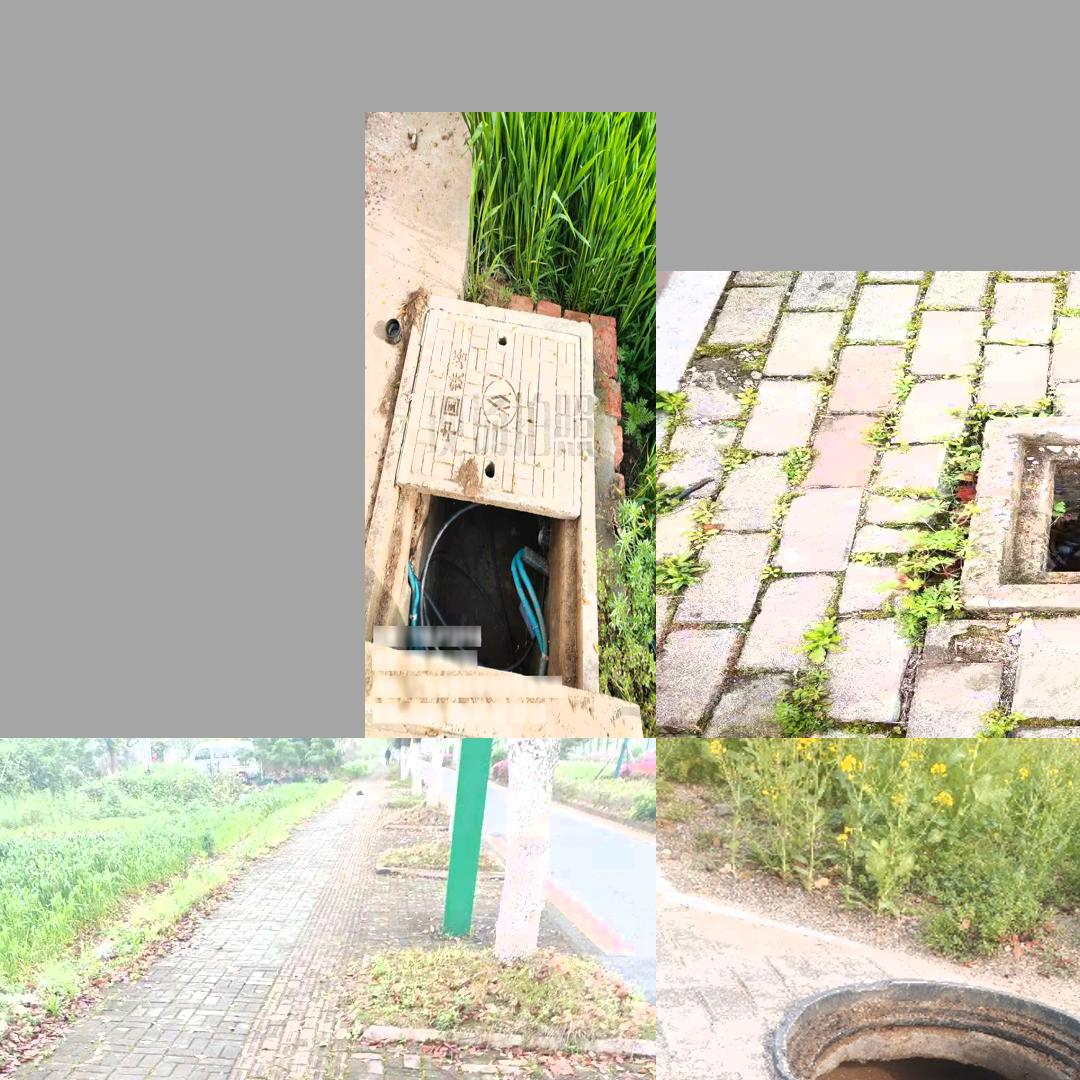lose: (378, 282, 590, 712), (721, 951, 1080, 1080), (957, 413, 1080, 610)
